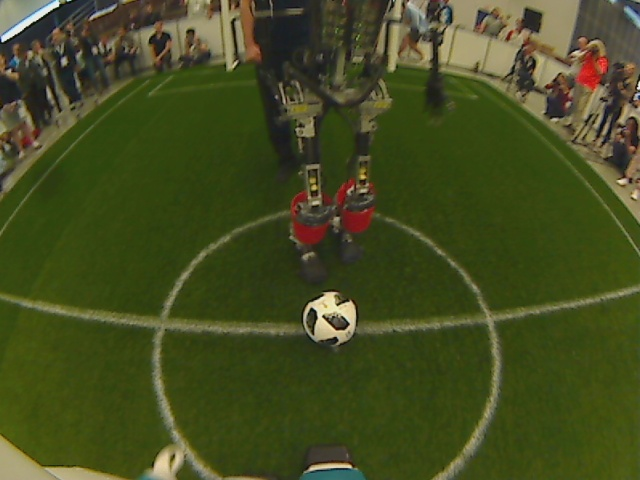ball: (300, 289, 360, 349)
